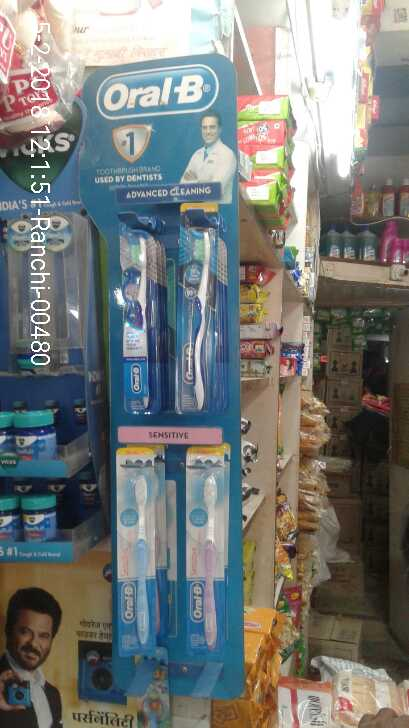pharmacy: (186, 449, 232, 656), (118, 445, 165, 647), (115, 223, 162, 411), (10, 412, 60, 542), (180, 227, 212, 413)
